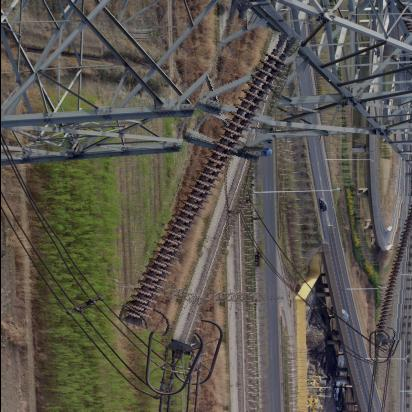insulator: (144, 17, 275, 345), (378, 196, 412, 340)
